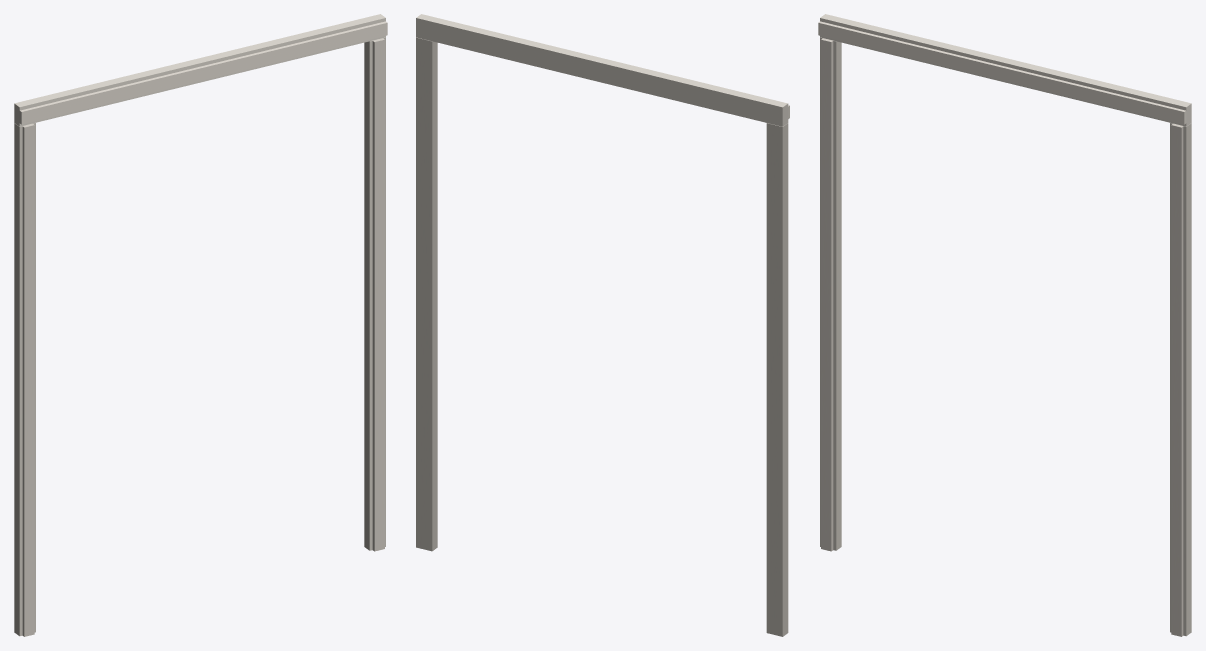
Rendered from door_casing.glb.
3 views of the same model, side by side, from view 1: azimuth 30°, elevation 25°; view 2: azimuth 150°, elevation 25°; view 3: azimuth 330°, elevation 25° (orthographic).
Visible parts, largest first — view 1: home_door_casing; view 2: home_door_casing; view 3: home_door_casing.
Boxes of the visible parts, x1,y1,x2,y2 form: home_door_casing: (14, 14, 387, 636); home_door_casing: (416, 14, 789, 636); home_door_casing: (818, 14, 1191, 636).
Size of the model in its own units: 1.58 by 2.18 by 0.054.
1 material, 1 textured.
